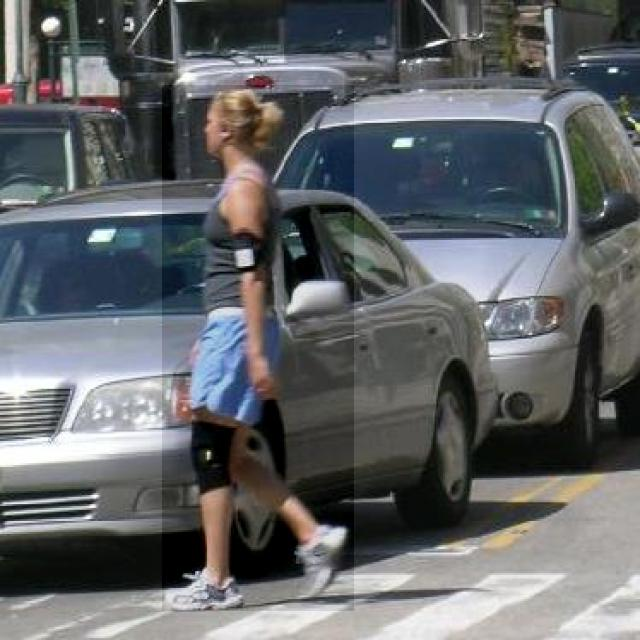with scooter: (162, 85, 354, 611)
